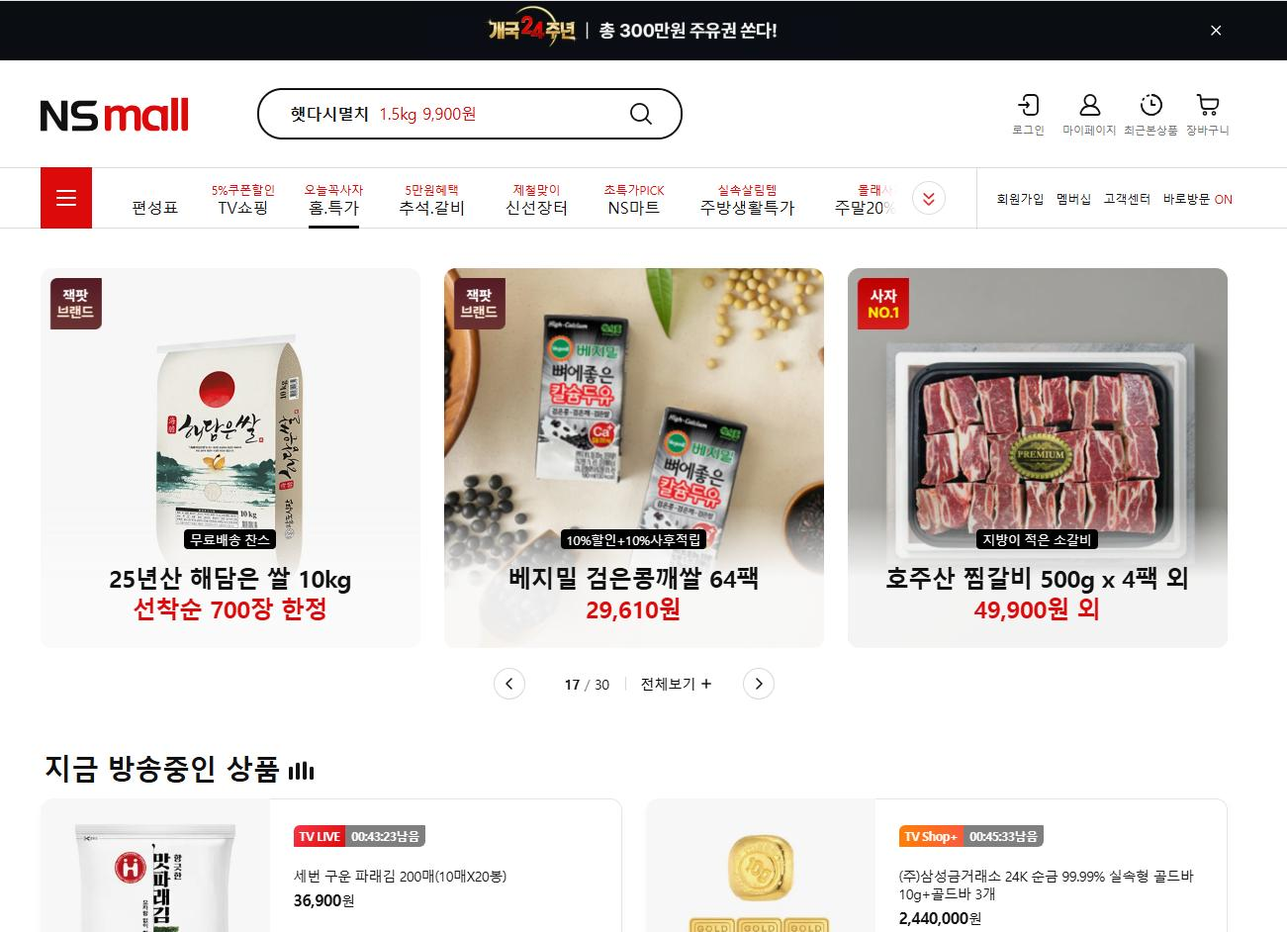button: (195, 177, 285, 212), (711, 179, 803, 211), (1001, 85, 1053, 139), (827, 185, 912, 218), (1125, 95, 1181, 144), (609, 185, 683, 222), (387, 187, 469, 218), (1063, 86, 1109, 141), (505, 188, 579, 216), (302, 184, 373, 212), (1177, 93, 1224, 130), (112, 194, 189, 216), (54, 181, 93, 212), (485, 666, 526, 690), (1001, 189, 1046, 209), (1107, 188, 1157, 205), (715, 674, 762, 691), (1170, 192, 1208, 205), (1064, 198, 1090, 209)
input_field: (249, 90, 670, 130)
popup: (3, 6, 1287, 62)
